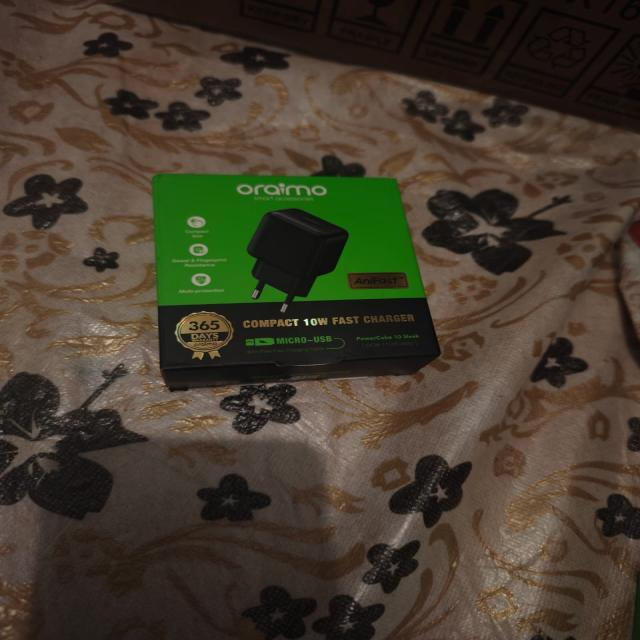PowerCube 10 Sleek OCW-1111ExM53: (354, 333, 422, 349)
